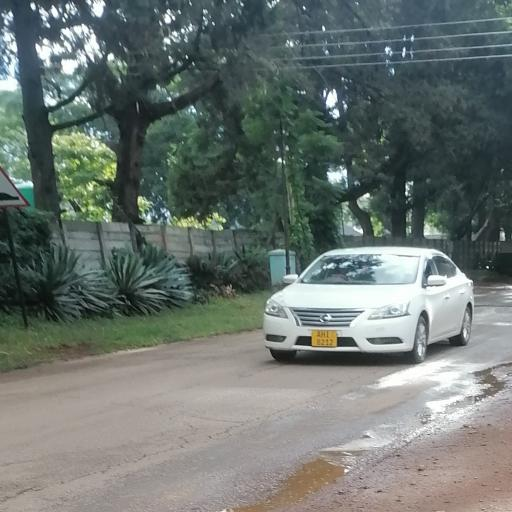number-plates: (311, 326, 338, 349)
